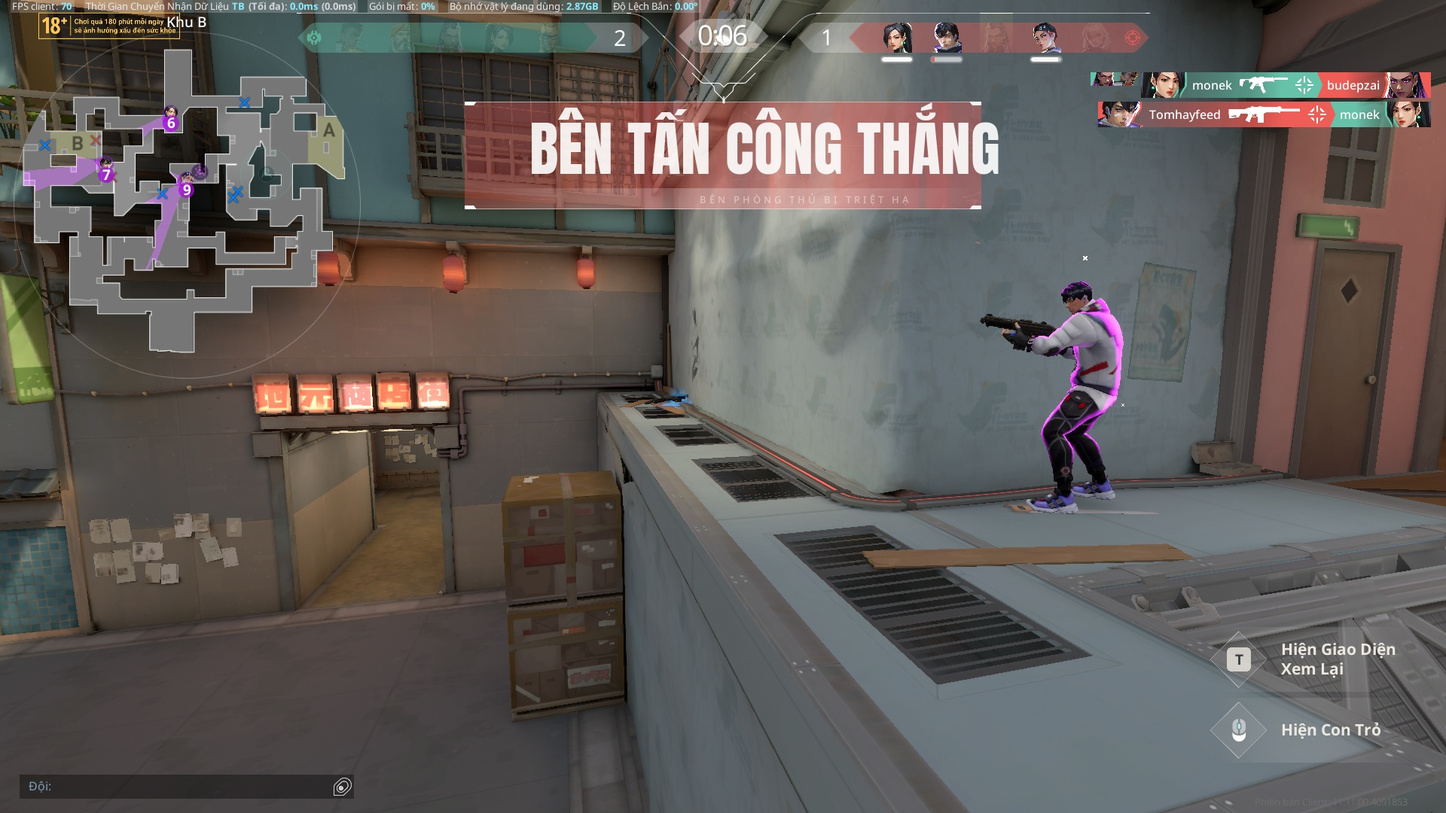body: (1066, 307, 1125, 391)
head: (1058, 279, 1095, 312)
